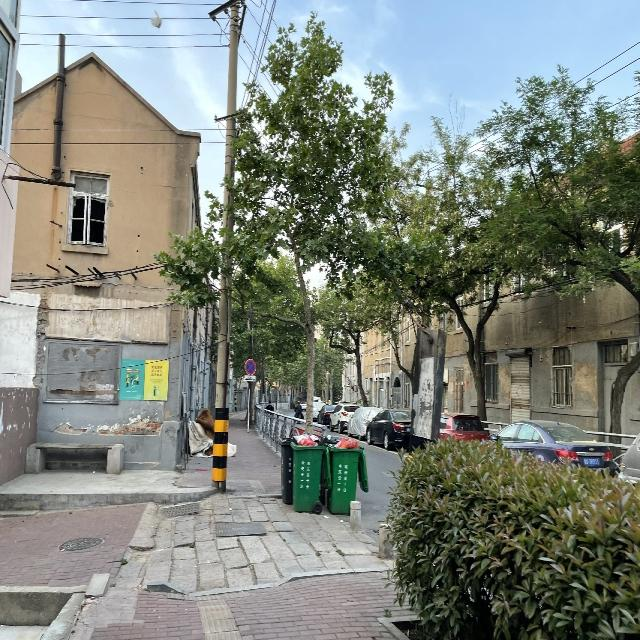garbage_bin: (278, 437, 290, 504)
overflow: (290, 433, 331, 510), (326, 437, 367, 514)
